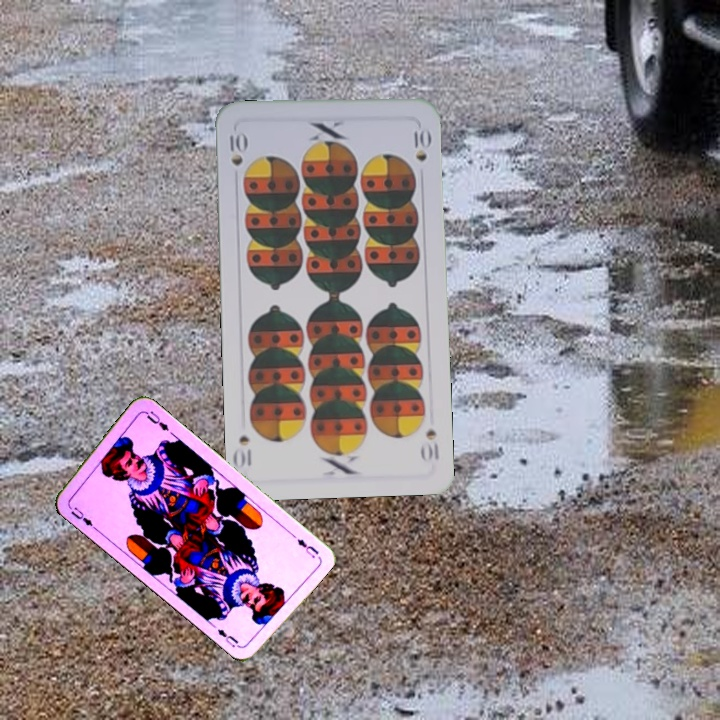EU: (67, 503, 98, 532), (293, 535, 321, 561)
S10: (225, 128, 248, 169), (418, 424, 441, 464)
